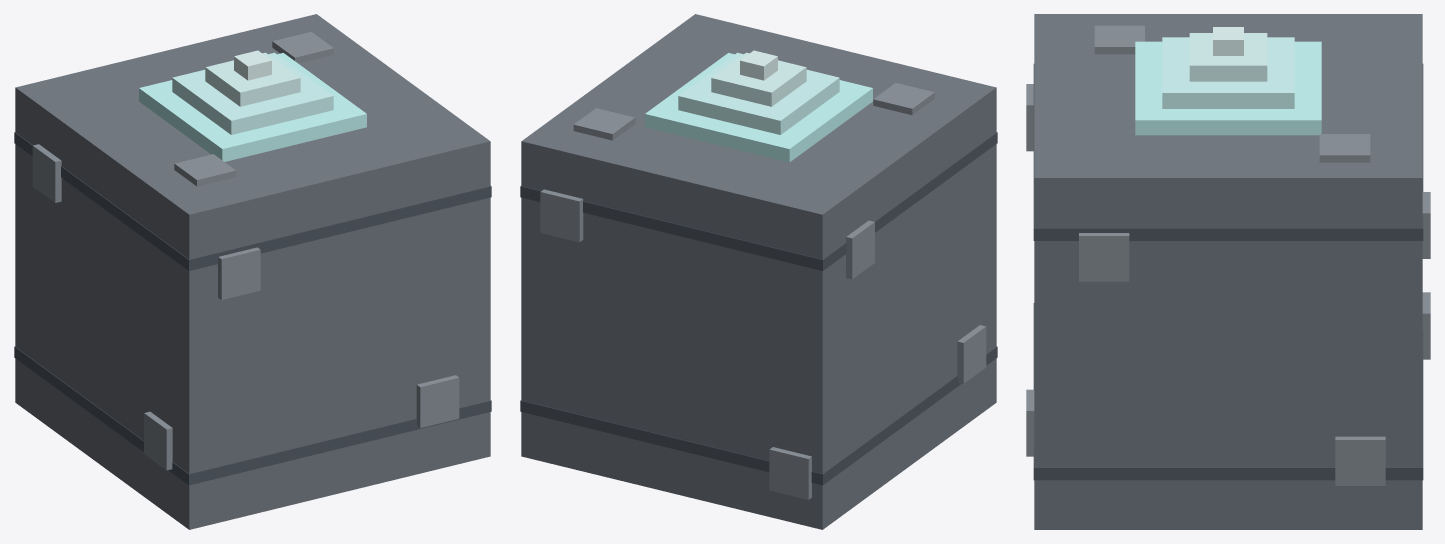
File: cut_diamond_ore_block.glb
3 renders of one model, left to right at view 1: azimuth 30°, elevation 25°; view 2: azimuth 150°, elevation 25°; view 3: azimuth 270°, elevation 25°, orthographic. The views are drawn at different scales.
Visible parts, largest first — view 1: dark_stone_core, diamond_facet, dark_seam_1, diamond_facet_1, dark_seam, diamond_facet_2, stone_chip_1, stone_chip, stone_chip_6, stone_chip_7, stone_chip_8, stone_chip_9 (+1 smaller); view 2: dark_stone_core, diamond_facet, diamond_facet_1, dark_seam, dark_seam_1, diamond_facet_2, stone_chip_3, stone_chip_2, stone_chip_7, stone_chip_6, stone_chip_9, stone_chip_8 (+1 smaller); view 3: dark_stone_core, diamond_facet, diamond_facet_1, dark_seam_1, dark_seam, diamond_facet_2, stone_chip_5, stone_chip_4, stone_chip_9, stone_chip_8, diamond_facet_3, stone_chip_1 (+3 smaller).
Part boxes in pixels (bbox=[...]): dark_stone_core: bbox=[15, 14, 490, 529]; diamond_facet: bbox=[139, 53, 366, 161]; dark_seam_1: bbox=[14, 132, 491, 270]; diamond_facet_1: bbox=[172, 52, 333, 134]; dark_seam: bbox=[14, 346, 491, 485]; diamond_facet_2: bbox=[205, 52, 300, 106]; stone_chip_1: bbox=[416, 375, 459, 427]; stone_chip: bbox=[218, 247, 260, 300]; stone_chip_6: bbox=[32, 144, 61, 202]; stone_chip_7: bbox=[144, 411, 172, 470]; stone_chip_8: bbox=[174, 154, 236, 186]; stone_chip_9: bbox=[272, 31, 333, 63]; dark_stone_core: bbox=[521, 14, 996, 529]; diamond_facet: bbox=[645, 53, 872, 162]; diamond_facet_1: bbox=[678, 52, 839, 134]; dark_seam: bbox=[520, 346, 997, 485]; dark_seam_1: bbox=[520, 132, 997, 270]; diamond_facet_2: bbox=[711, 52, 806, 106]; stone_chip_3: bbox=[540, 189, 583, 242]; stone_chip_2: bbox=[769, 447, 811, 499]; stone_chip_7: bbox=[957, 325, 986, 383]; stone_chip_6: bbox=[846, 220, 874, 279]; stone_chip_9: bbox=[573, 108, 635, 140]; stone_chip_8: bbox=[873, 83, 934, 115]; dark_stone_core: bbox=[1034, 14, 1422, 529]; diamond_facet: bbox=[1135, 41, 1321, 135]; diamond_facet_1: bbox=[1162, 37, 1294, 108]; dark_seam_1: bbox=[1033, 64, 1423, 240]; dark_seam: bbox=[1033, 303, 1423, 480]; diamond_facet_2: bbox=[1189, 33, 1267, 81]; stone_chip_5: bbox=[1335, 436, 1385, 485]; stone_chip_4: bbox=[1079, 233, 1129, 281]; stone_chip_9: bbox=[1319, 134, 1370, 162]; stone_chip_8: bbox=[1094, 25, 1144, 54]; diamond_facet_3: bbox=[1213, 27, 1243, 55]; stone_chip_1: bbox=[1026, 389, 1034, 456].
Size of the model in its own units: 1.04 by 1.2 by 1.04.
